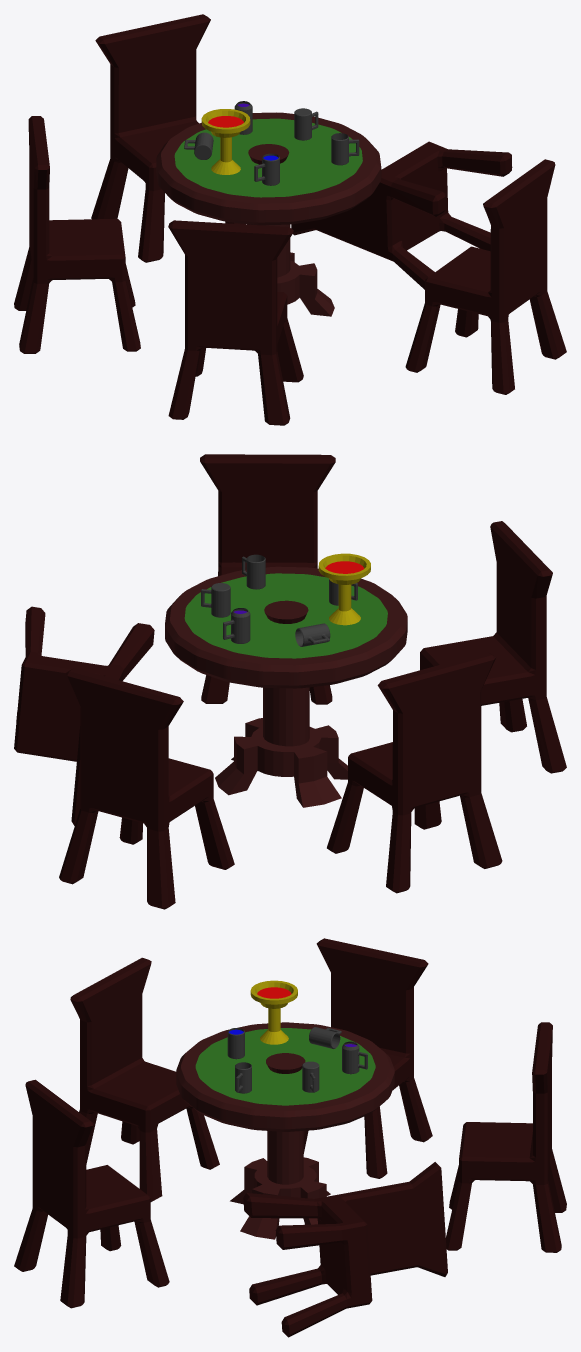
Rendered from table&chairs.fbx.
The picture shows the model from 3 angles, top to bottom: view 1: azimuth 30°, elevation 25°; view 2: azimuth 150°, elevation 25°; view 3: azimuth 270°, elevation 25°; orthographic projection. The views are drawn at different scales.
Visible parts, largest first — view 1: pasted__pasted__pasted__pasted__pCube1 (×3), pasted__pCylinder1, pasted__pasted__pCube1, pasted__pasted__pasted__pCube1, pasted__pasted__pCylinder2 (×3), pCylinder4, pasted__pasted__pasted__pCylinder2; view 2: pasted__pasted__pasted__pasted__pCube1 (×3), pasted__pCylinder1, pasted__pasted__pasted__pCube1, pasted__pasted__pCube1, pasted__pasted__pCylinder2 (×3), pCylinder4, pasted__pasted__pasted__pCylinder2; view 3: pasted__pasted__pasted__pasted__pCube1 (×3), pasted__pCylinder1, pasted__pasted__pCube1, pasted__pasted__pasted__pCube1, pasted__pasted__pCylinder2 (×4), pCylinder4, pasted__pasted__pasted__pCylinder2.
Boxes of the visible parts, x1,y1,x2,y2 form: pasted__pasted__pasted__pasted__pCube1 (×3): (91, 14, 566, 394); pasted__pCylinder1: (156, 112, 381, 316); pasted__pasted__pCube1: (168, 220, 303, 425); pasted__pasted__pasted__pCube1: (14, 116, 140, 353); pasted__pasted__pCylinder2 (×3): (184, 132, 359, 185); pCylinder4: (201, 109, 250, 174); pasted__pasted__pasted__pCylinder2: (294, 108, 318, 140); pasted__pasted__pasted__pasted__pCube1 (×3): (14, 454, 335, 909); pasted__pCylinder1: (165, 566, 407, 807); pasted__pasted__pasted__pCube1: (327, 652, 502, 893); pasted__pasted__pCube1: (420, 521, 566, 773); pasted__pasted__pCylinder2 (×3): (222, 554, 330, 646); pCylinder4: (318, 553, 370, 625); pasted__pasted__pasted__pCylinder2: (201, 583, 230, 617); pasted__pasted__pasted__pasted__pCube1 (×3): (14, 1022, 566, 1337); pasted__pCylinder1: (176, 1022, 394, 1239); pasted__pasted__pCube1: (70, 957, 219, 1201); pasted__pasted__pasted__pCube1: (303, 938, 432, 1178); pasted__pasted__pCylinder2 (×4): (227, 1027, 367, 1093); pCylinder4: (250, 980, 297, 1044); pasted__pasted__pasted__pCylinder2: (302, 1061, 319, 1092).
Bounding box in the file's own units: 11.88 × 5.38 × 12.46.
